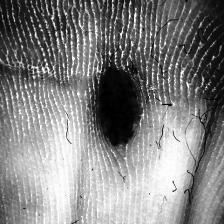Benign Marking or Mole: (95, 63, 140, 145)
